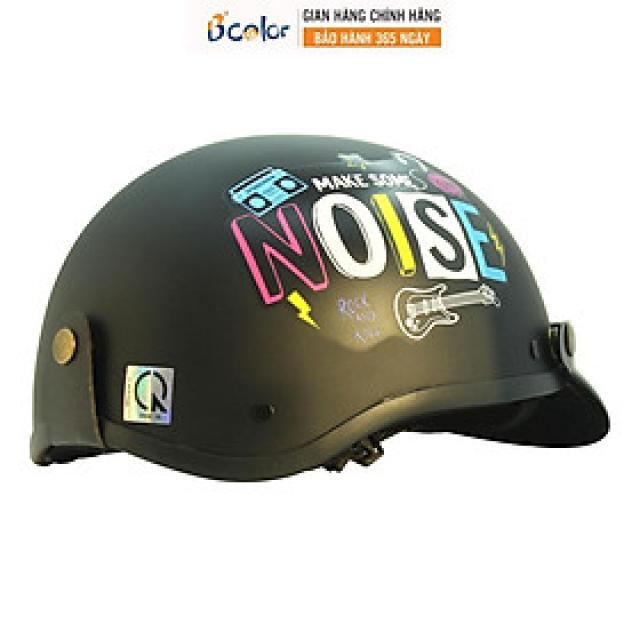Helmet: (23, 123, 612, 487)
